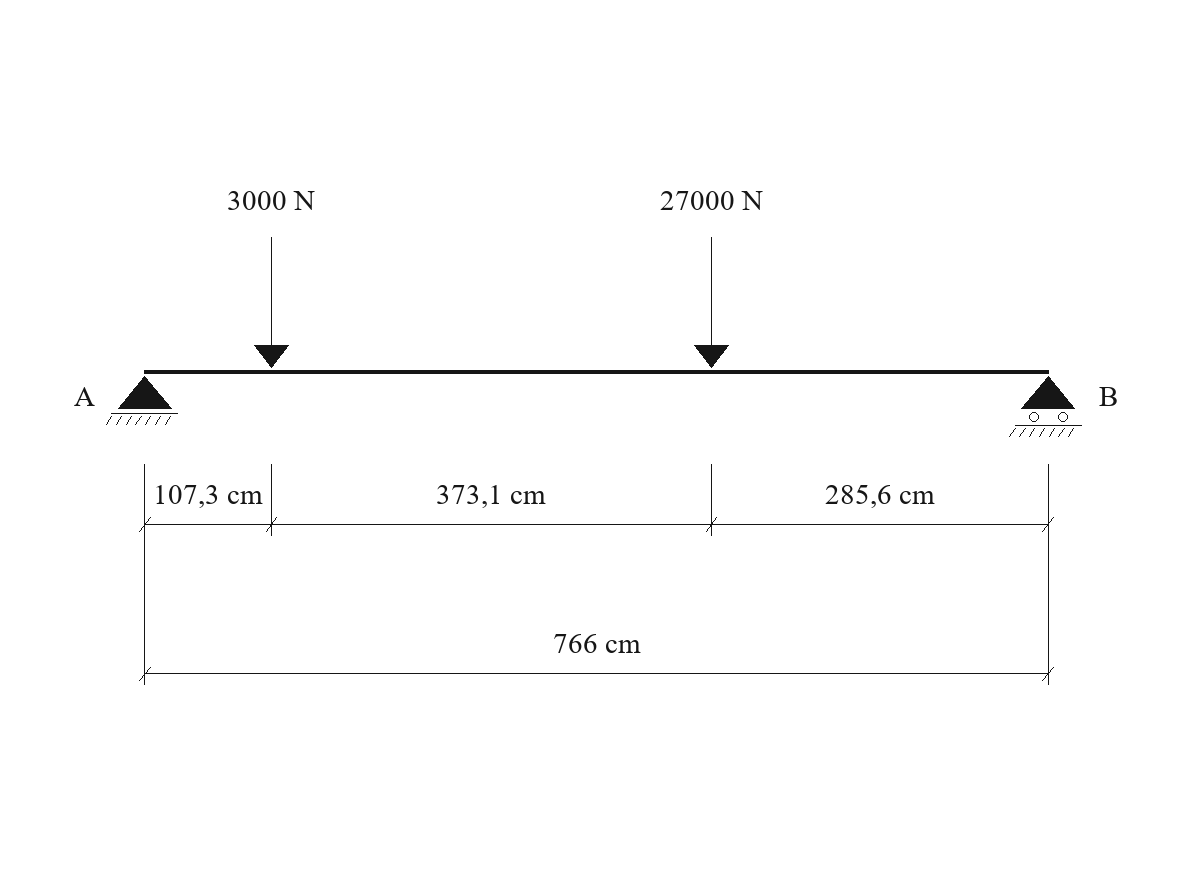pin_support: (106, 376, 178, 425)
point_load: (254, 237, 289, 368), (694, 237, 729, 368)
roller_support: (1009, 376, 1082, 437)
